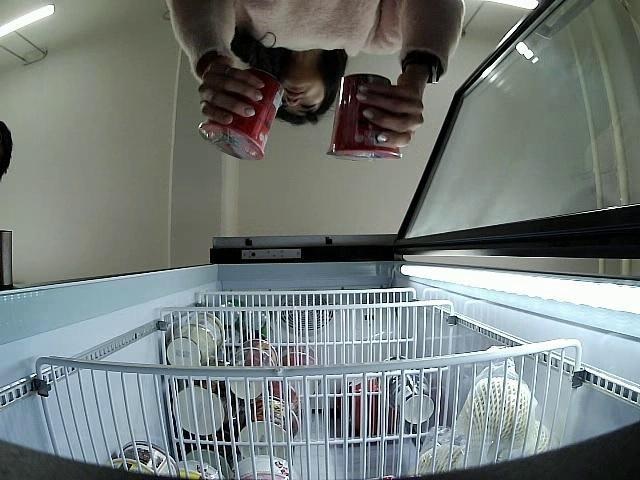02_shinRamen_S: (198, 72, 285, 162), (326, 71, 404, 164)
